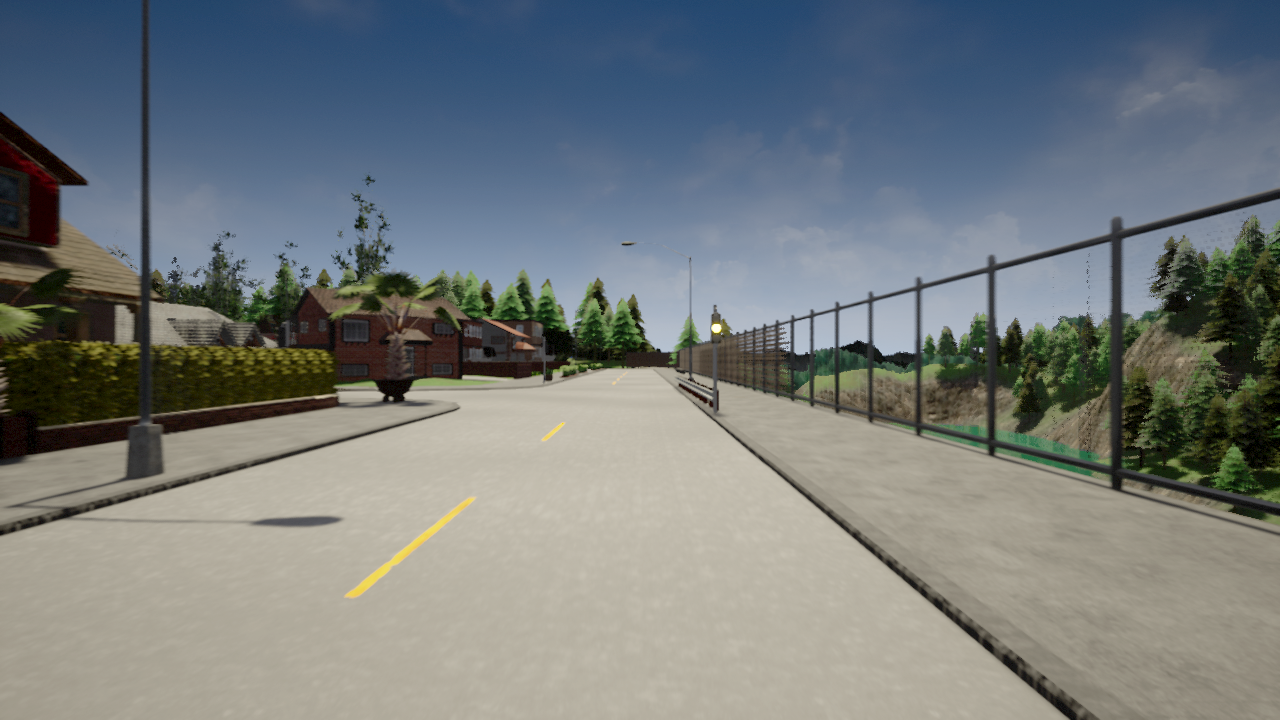yellow: (709, 313, 723, 345)
